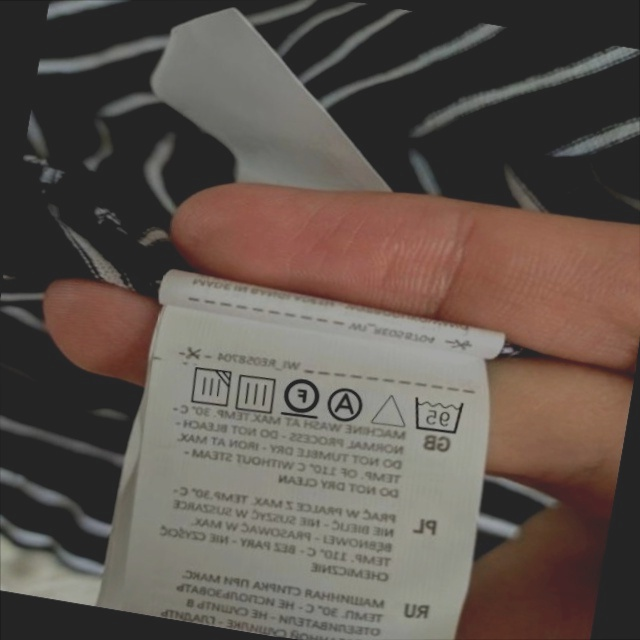95C: (407, 390, 468, 439)
bleach: (370, 386, 411, 433)
drip_dry: (231, 368, 281, 417)
drip_dry_in_shade: (183, 361, 234, 412)
dry_clean: (324, 383, 368, 426)
dry_clean_petrol_only: (278, 371, 324, 422)
